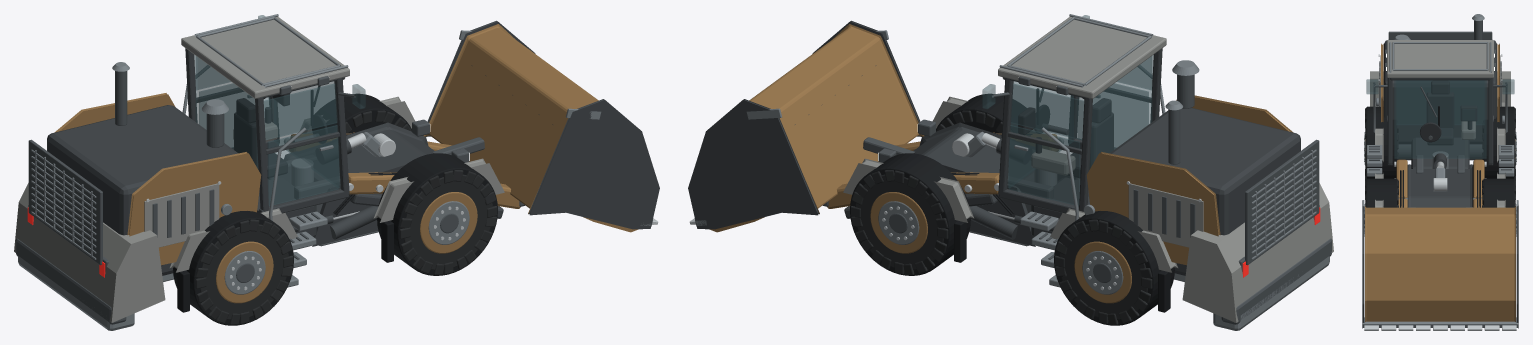
File: komatsu-wa475-10-structural-study.glb
3 views of the same model, side by side, from view 1: azimuth 30°, elevation 25°; view 2: azimuth 150°, elevation 25°; view 3: azimuth 270°, elevation 25° (orthographic). The views are drawn at different scales.
Parts seen in each view (by area): view 1: StockPileBucket_Shell, BucketSideGuard_L, EngineCompartment_Core, RearCounterweight_Mass, ROPS_Roof, EngineHoodSidePanel_L, FrontFrame_Main, CabSideGlassLower_L, Cab_FrontGlass, RearCoolingMask, Cab_RearGlass, CabSideGlassUpper_L (+34 smaller); view 2: StockPileBucket_Shell, BucketSideGuard_R, EngineCompartment_Core, RearCounterweight_Mass, ROPS_Roof, EngineHoodSidePanel_R, FrontFrame_Main, CabSideGlassLower_R, Cab_RearGlass, RearCoolingMask, Cab_FrontGlass, CabSideGlassUpper_R (+33 smaller); view 3: StockPileBucket_Shell, Cab_FrontGlass, EngineCompartment_Core, ROPS_Roof, Cab_RearGlass, FrontFrame_Main, RearTire_L, RearTire_R, RearFrame_Spine, FrontTire_L, FrontTire_R, OperatorSeat_Back (+35 smaller).
Part boxes in pixels (x1,y1,x2,y2): StockPileBucket_Shell: (423,24,638,232); BucketSideGuard_L: (528,99,659,229); EngineCompartment_Core: (47,105,238,265); RearCounterweight_Mass: (14,183,165,322); ROPS_Roof: (181,16,349,98); EngineHoodSidePanel_L: (127,152,261,265); FrontFrame_Main: (284,122,434,246); CabSideGlassLower_L: (267,125,339,206); Cab_FrontGlass: (274,81,340,187); RearCoolingMask: (28,139,102,265); Cab_RearGlass: (195,56,258,197); CabSideGlassUpper_L: (263,83,337,140); StockPileBucket_Shell: (709,24,924,232); BucketSideGuard_R: (688,99,819,229); EngineCompartment_Core: (1109,108,1300,265); RearCounterweight_Mass: (1182,183,1333,322); ROPS_Roof: (998,16,1166,98); EngineHoodSidePanel_R: (1086,152,1220,265); FrontFrame_Main: (913,122,1035,246); CabSideGlassLower_R: (1008,125,1080,206); Cab_RearGlass: (1089,56,1152,197); RearCoolingMask: (1245,139,1319,265); Cab_FrontGlass: (1007,81,1073,187); CabSideGlassUpper_R: (1010,83,1084,140); StockPileBucket_Shell: (1365,206,1515,321); Cab_FrontGlass: (1394,80,1486,158); EngineCompartment_Core: (1384,39,1496,144); ROPS_Roof: (1387,40,1493,77); Cab_RearGlass: (1396,80,1484,124); FrontFrame_Main: (1407,165,1473,207); RearTire_L: (1366,106,1397,178); RearTire_R: (1483,106,1514,178); RearFrame_Spine: (1411,137,1469,168); FrontTire_L: (1366,178,1397,207); FrontTire_R: (1483,178,1514,207); OperatorSeat_Back: (1426,92,1454,128).
Size of the model in its own units: 9.18 by 3.55 by 3.17.
